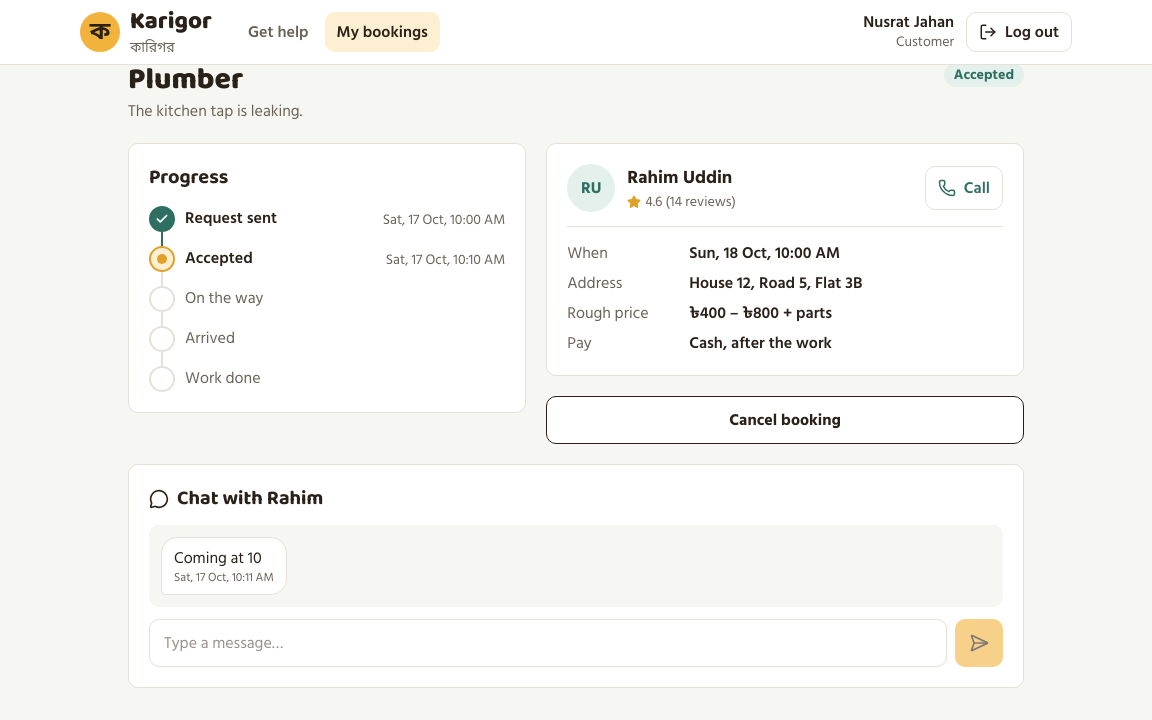
Test: Chat and live updates › chats with the karigor and shows status changes without refreshing
(page scrolled)
Expected: the text "Coming at 10" is shown, [174, 545, 262, 571]
Type "Gate is on the left" into the field named "Message to Rahim".
click(548, 643); type("Gate is on the left")  # box [149, 619, 947, 667]
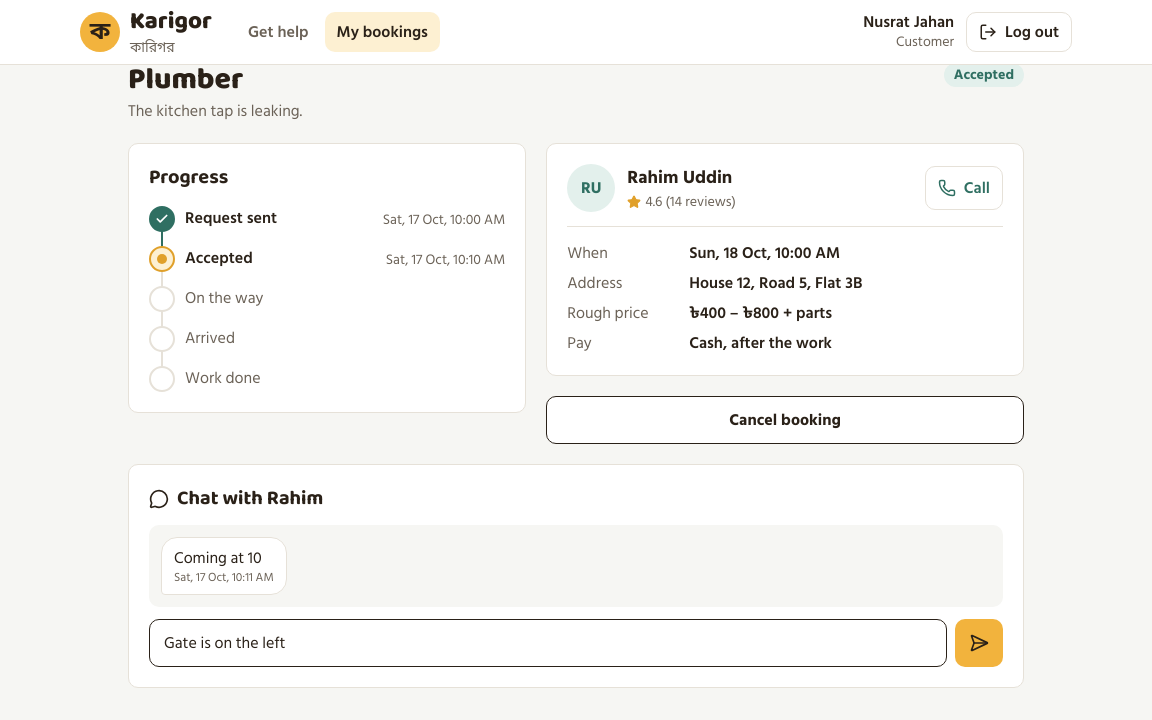
Click the button named "Send".
click(979, 643)  # box [955, 619, 1003, 667]
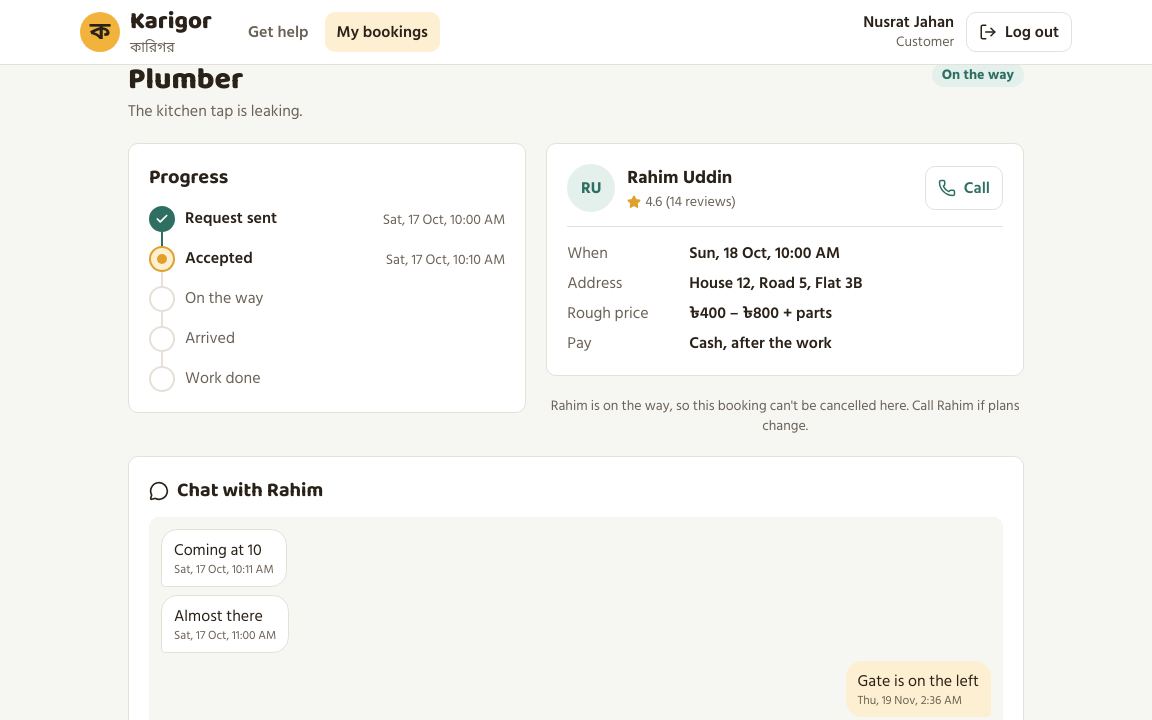
Result: the text "Gate is on the left" is shown at [858, 668, 979, 694]
Result: the text "Almost there" is shown at [174, 603, 263, 629]
Result: the text "can't be cancelled here" is shown at [588, 394, 937, 417]
